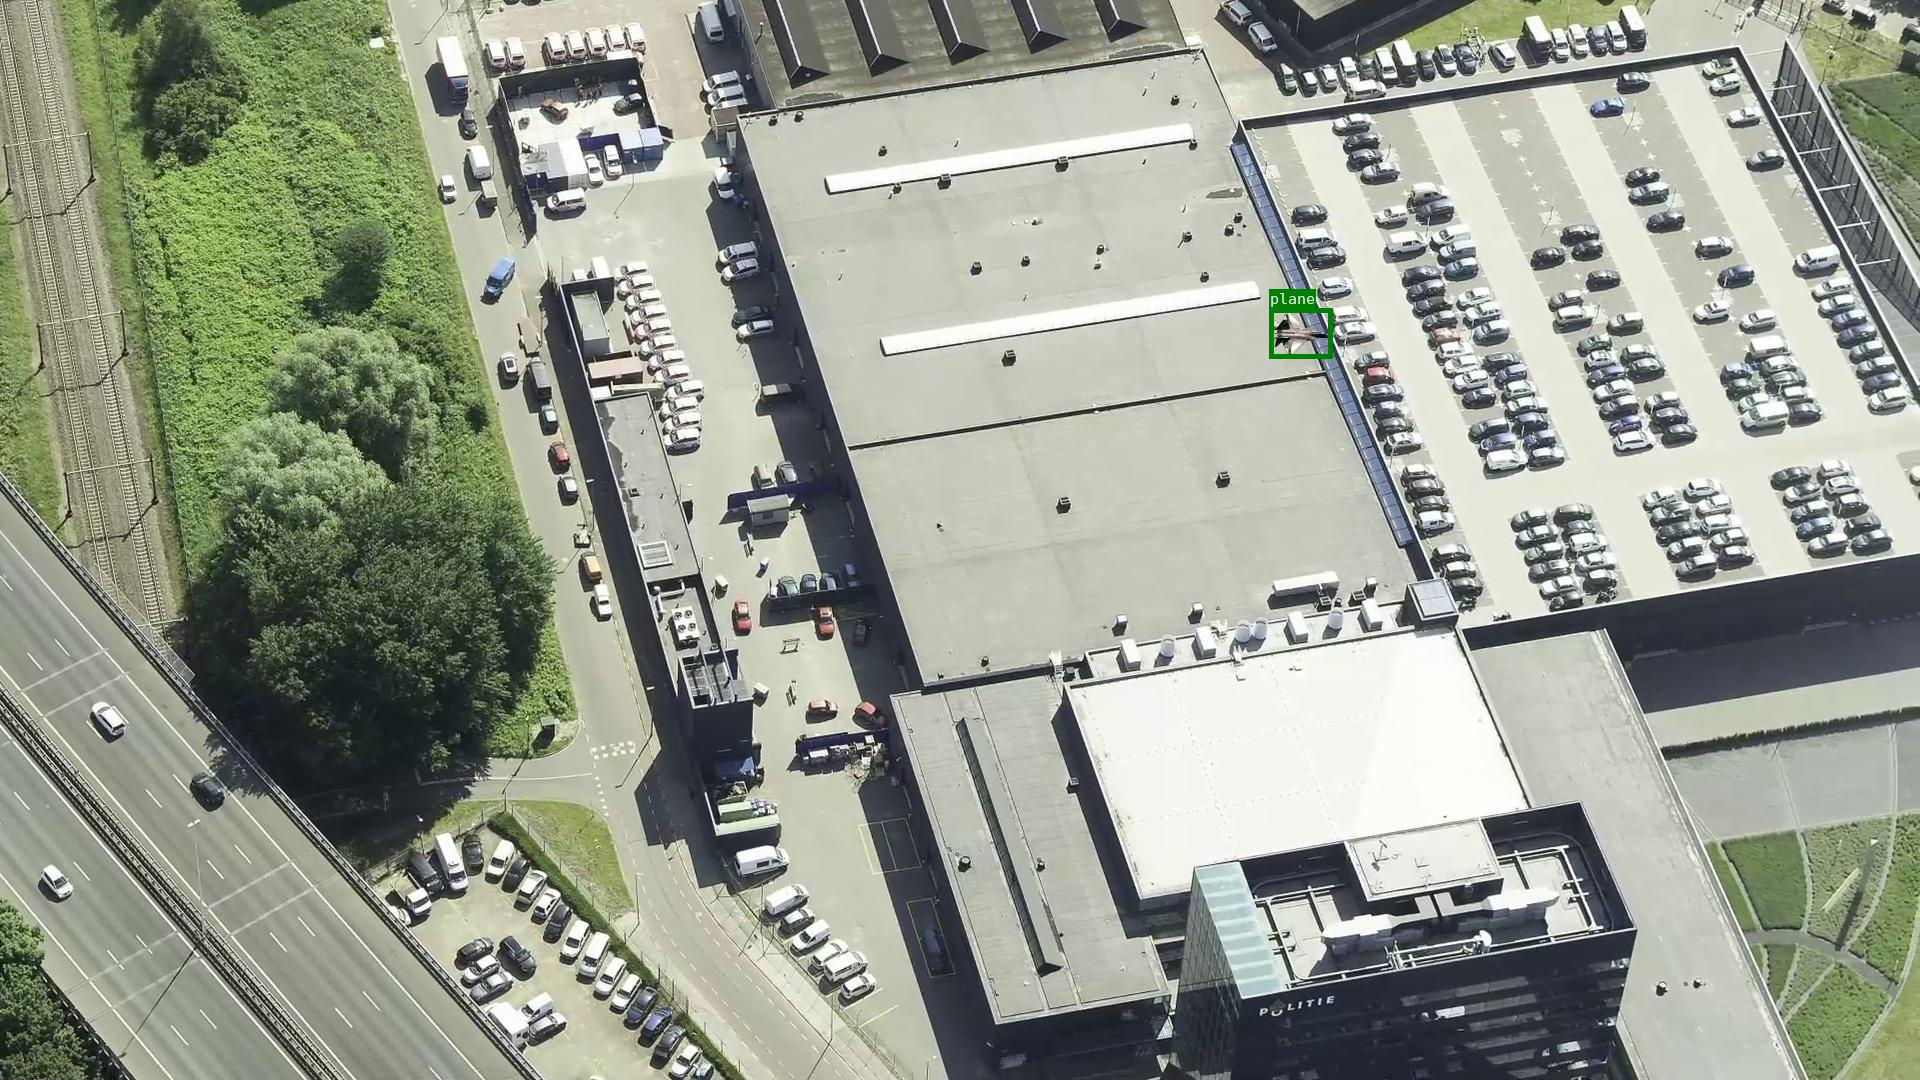plane: (1269, 309, 1332, 357)
